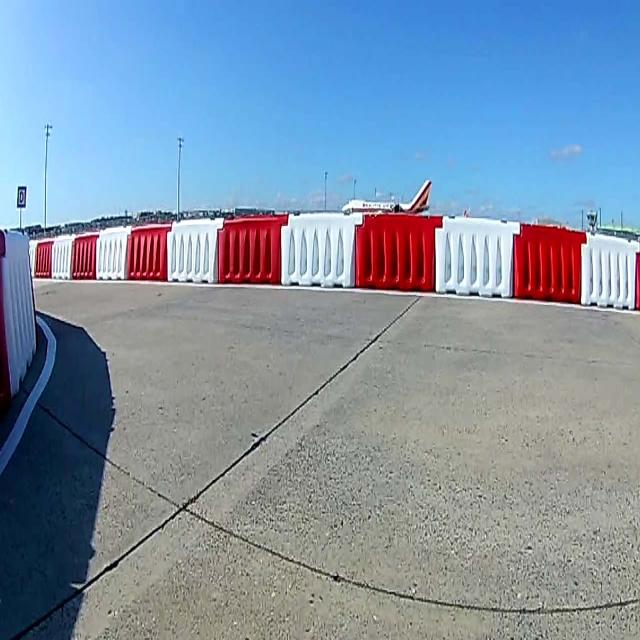durak: (16, 186, 26, 208)
